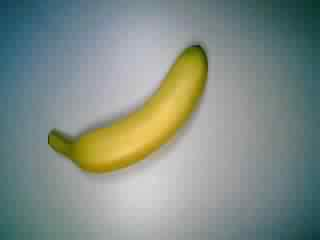banana: (46, 42, 210, 176)
